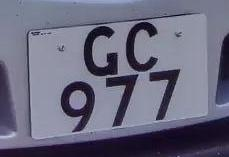7: (101, 69, 148, 130), (144, 66, 187, 122)
9: (53, 75, 106, 135)
C: (72, 16, 128, 83), (119, 12, 173, 79)
